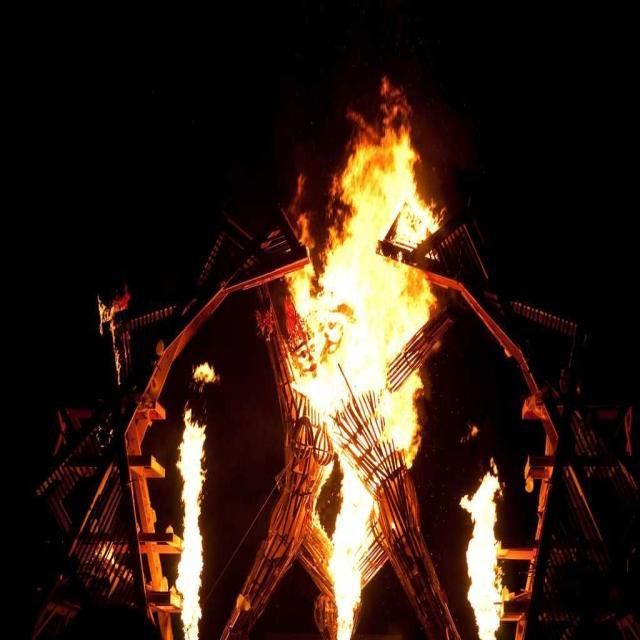Fire: (346, 152, 414, 439), (333, 474, 368, 637), (180, 420, 204, 636), (471, 492, 495, 630)
